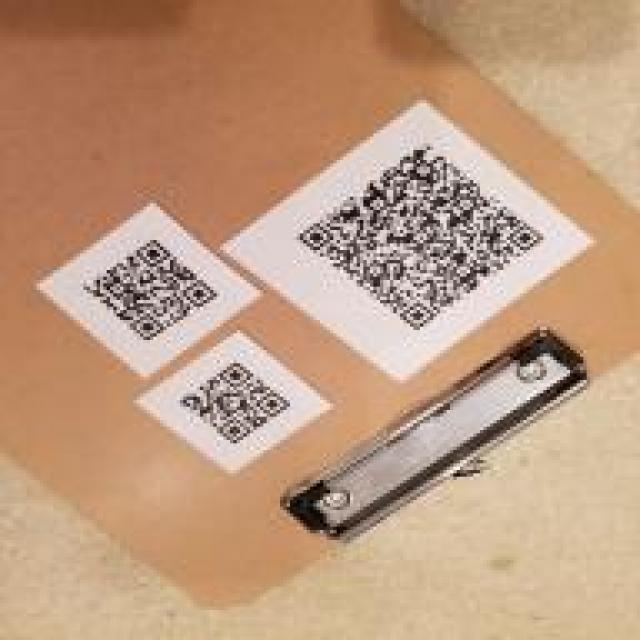QR_CODE: (287, 138, 553, 340), (74, 225, 224, 350), (168, 353, 300, 457)
